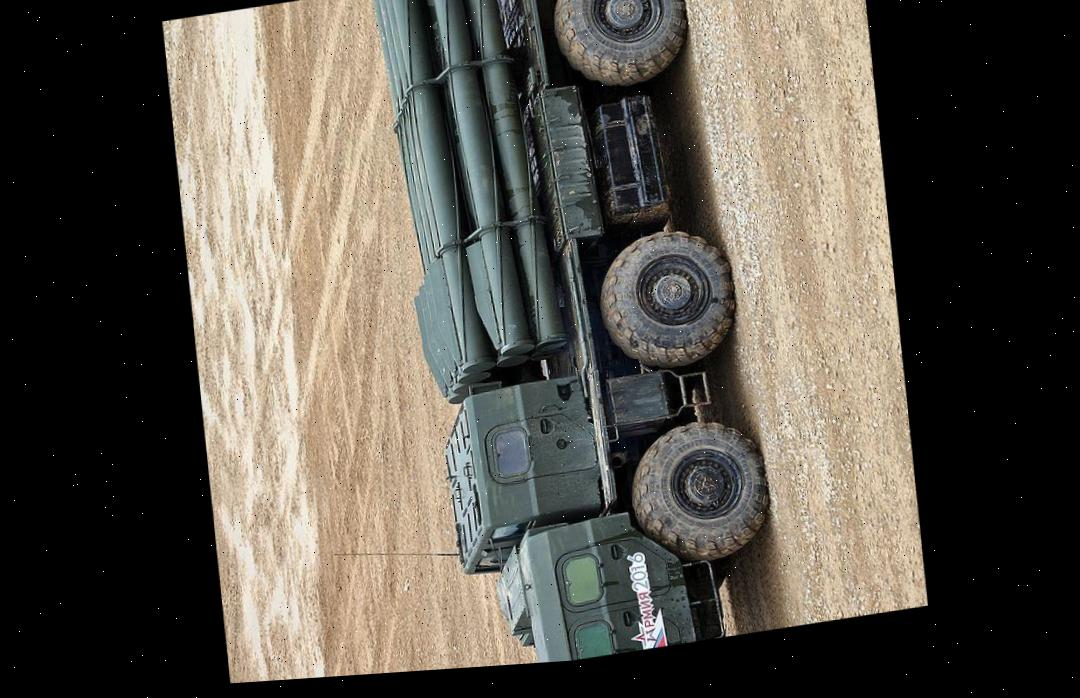rszo: (294, 0, 813, 678)
